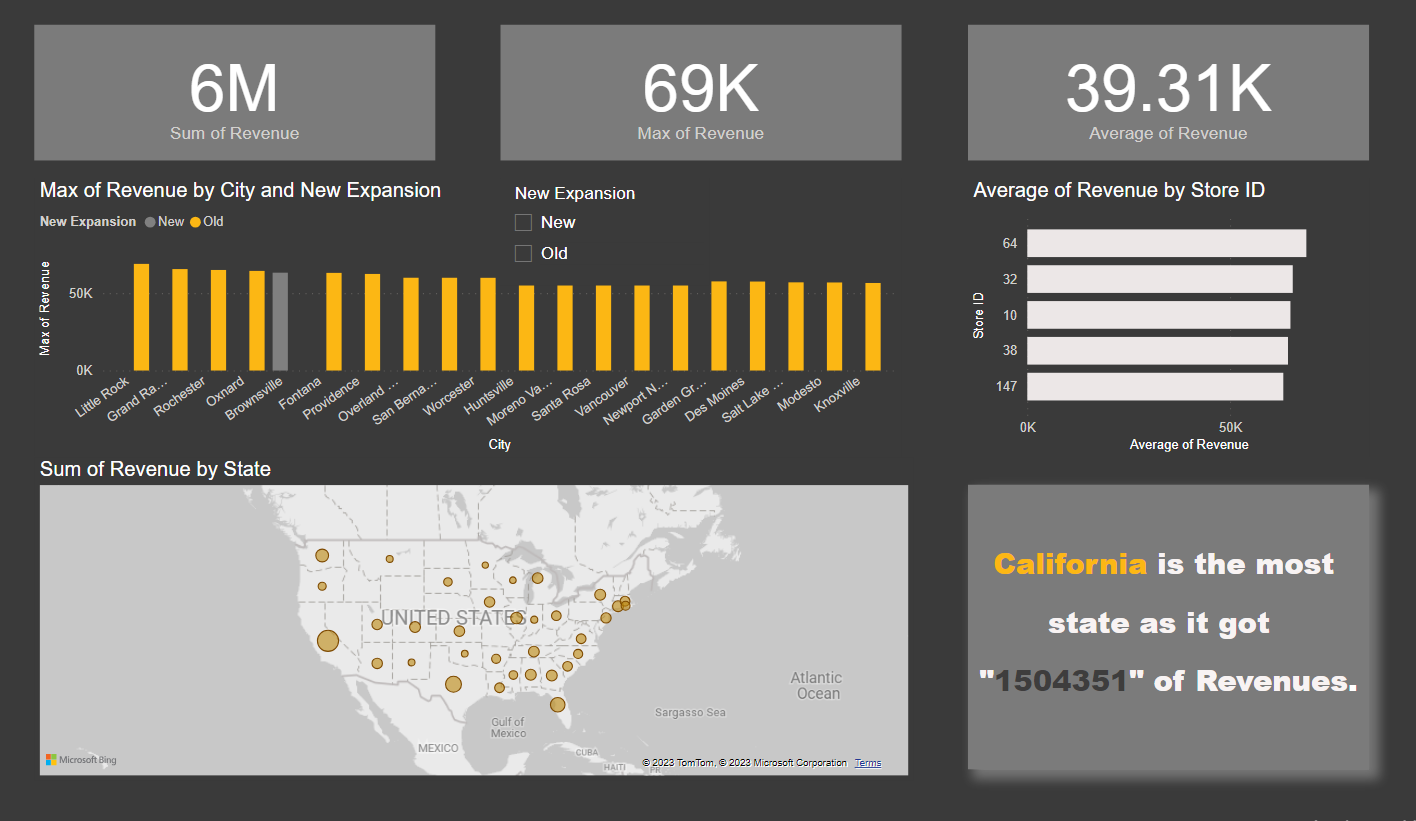

The page's visual inventory and layout, read from the dashboard file:
{"tool":"powerbi","page":{"name":"SALES","canvas":[1280,720],"ordinal":1},"visuals":[{"type":"card","fields":{"Values":["Sum(startup-expansion-modified.Revenue)"]},"box":[15.5,13.1,368.9,125],"z":0},{"type":"card","fields":{"Values":["Max(startup-expansion-modified.Revenue)"]},"box":[443.9,13.1,368.9,125],"z":1000},{"type":"card","fields":{"Values":["Avg(startup-expansion-modified.Revenue)"]},"box":[873.5,13.1,368.9,125],"z":2000},{"type":"map","fields":{"Size":["Sum(startup-expansion-modified.Revenue)"],"Category":["startup-expansion-modified.State"]},"box":[15.1,409.9,808.9,297.5],"z":3000},{"type":"clusteredColumnChart","fields":{"Y":["Max(startup-expansion-modified.Revenue)"],"Category":["startup-expansion-modified.City"],"Series":["startup-expansion-modified.New Expansion"]},"box":[15.1,153.6,797.9,256.4],"z":4000},{"type":"slicer","fields":{"Values":["startup-expansion-modified.New Expansion"]},"box":[444.2,153.6,191.9,98.7],"z":5000},{"type":"textbox","box":[873.4,436,368.8,261.9],"z":6000},{"type":"clusteredBarChart","fields":{"Category":["startup-expansion-modified.Store ID"],"Y":["Avg(startup-expansion-modified.Revenue)"]},"box":[874,154,369,256],"z":7000}]}

Visuals, with their boxes in screenshot pixels (x1, y1, x2, y2), scaled from the page's 1280x720 canvas onto the 1416x821 screenshot:
card - Sum(startup-expansion-modified.Revenue): bbox=(17, 15, 425, 157)
card - Max(startup-expansion-modified.Revenue): bbox=(491, 15, 899, 157)
card - Avg(startup-expansion-modified.Revenue): bbox=(966, 15, 1374, 157)
map - Sum(startup-expansion-modified.Revenue) x startup-expansion-modified.State: bbox=(17, 467, 912, 807)
clusteredColumnChart - Max(startup-expansion-modified.Revenue) x startup-expansion-modified.City: bbox=(17, 175, 899, 468)
slicer - startup-expansion-modified.New Expansion: bbox=(491, 175, 704, 288)
textbox: bbox=(966, 497, 1374, 796)
clusteredBarChart - startup-expansion-modified.Store ID x Avg(startup-expansion-modified.Revenue): bbox=(967, 176, 1375, 468)
